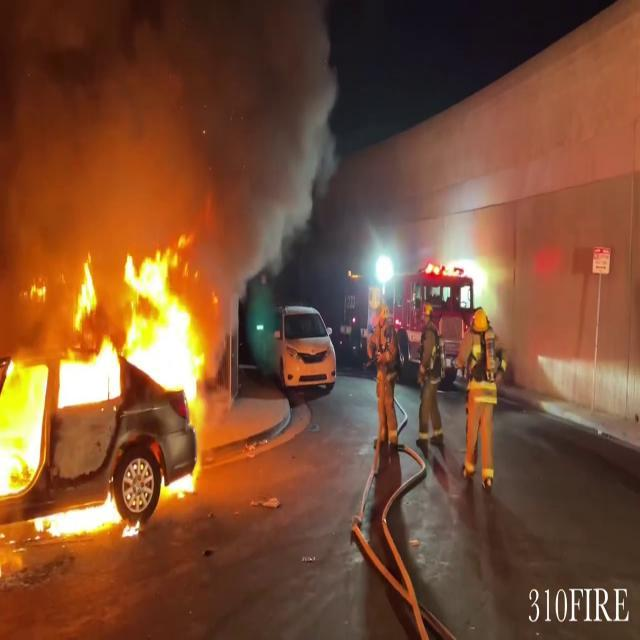Fire: (0, 230, 214, 512)
Smoke: (0, 0, 346, 266)
